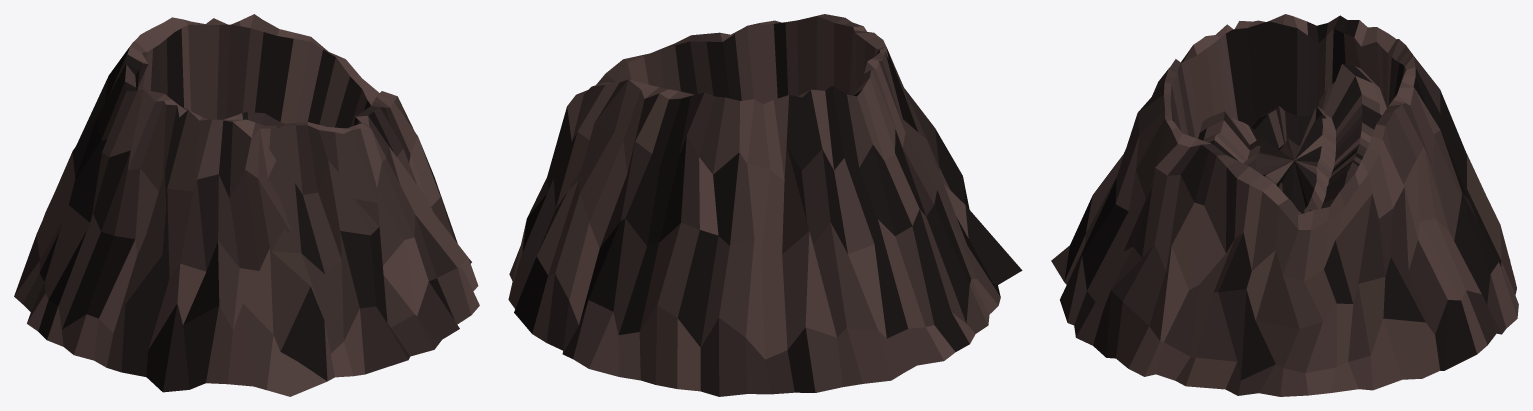
Rendered from volcano.fbx.
3 views of the same model, side by side, from view 1: azimuth 30°, elevation 25°; view 2: azimuth 150°, elevation 25°; view 3: azimuth 270°, elevation 25° (orthographic). The views are drawn at different scales.
Visible parts, largest first — view 1: Cone; view 2: Cone; view 3: Cone.
Boxes of the visible parts, <box> form: Cone: <box>14,14,479,396</box>; Cone: <box>508,14,1022,396</box>; Cone: <box>1051,14,1518,396</box>.
Size of the model in its own units: 18851 by 10492 by 18871.
